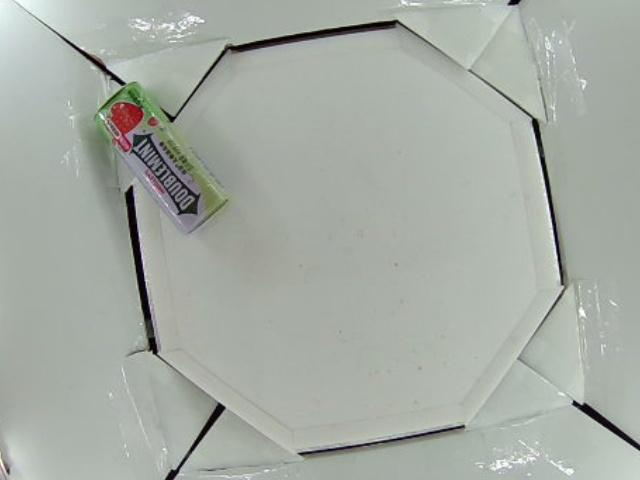Bottle: (92, 84, 228, 237)
